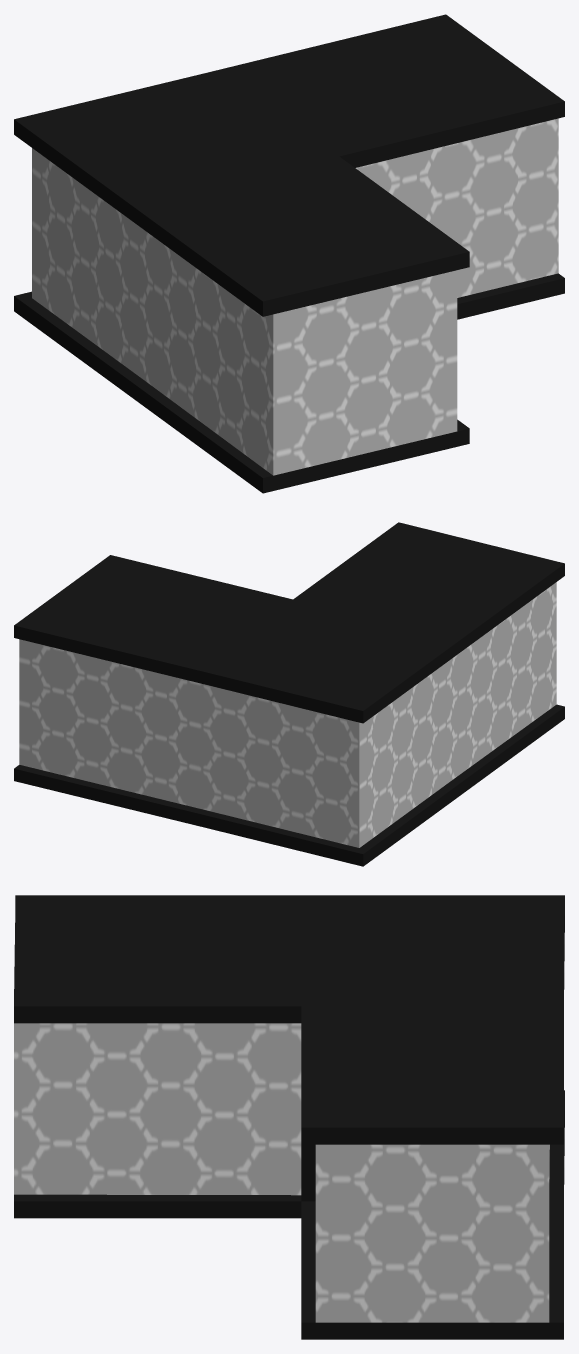
The model's file is WallCorner_New.fbx.
The picture shows the model from 3 angles, top to bottom: view 1: azimuth 30°, elevation 25°; view 2: azimuth 150°, elevation 25°; view 3: azimuth 270°, elevation 25°; orthographic projection. The views are drawn at different scales.
Parts seen in each view (by area): view 1: wall_Corner; view 2: wall_Corner; view 3: wall_Corner.
Boxes of the visible parts, bbox=[...] form: wall_Corner: bbox=[14, 14, 564, 493]; wall_Corner: bbox=[14, 522, 564, 866]; wall_Corner: bbox=[14, 895, 564, 1339].
Size of the model in its own units: 191 by 81.37 by 192.
